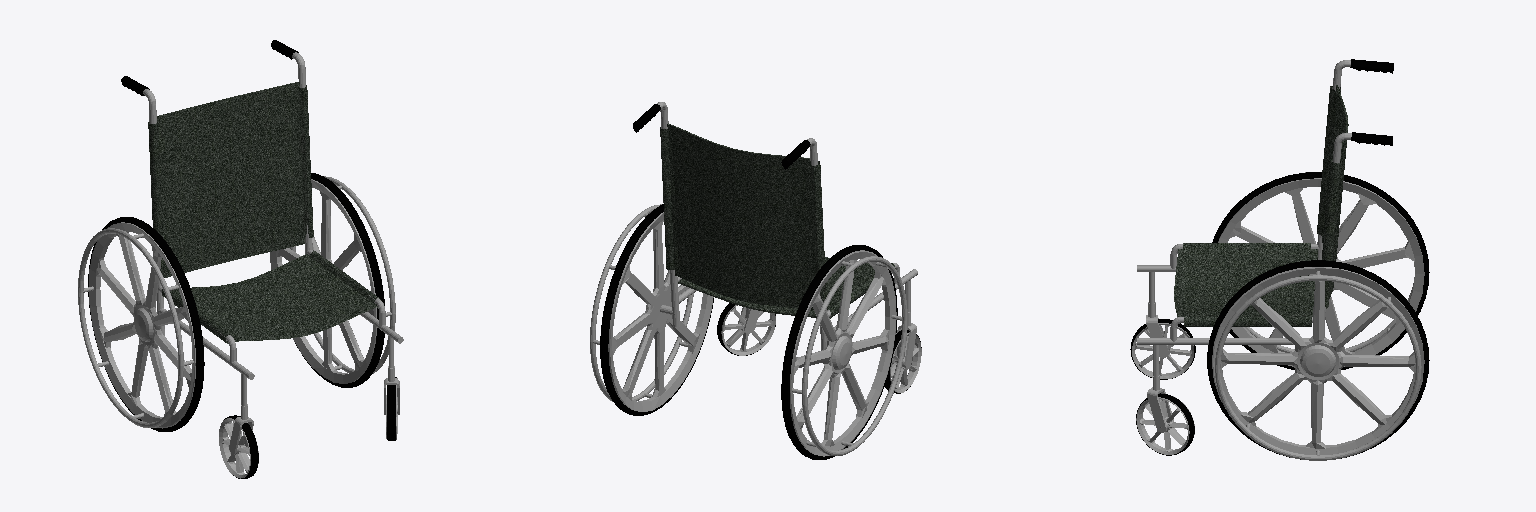
3 renders of one model, left to right at view 1: azimuth 30°, elevation 25°; view 2: azimuth 150°, elevation 25°; view 3: azimuth 270°, elevation 25°, orthographic.
Visible parts, largest first — view 1: 21_21, 22_22, 3_3, 1_1, 4_4, 23_23, 2_2, 18_18, 20_20, 24_24, 19_19, 17_17 (+4 smaller); view 2: 21_21, 3_3, 18_18, 1_1, 4_4, 20_20, 2_2, 24_24, 23_23, 19_19, 17_17, 22_22 (+2 smaller); view 3: 18_18, 22_22, 20_20, 3_3, 17_17, 1_1, 19_19, 2_2, 26_26, 23_23, 36_36, 24_24 (+6 smaller).
Part boxes in pixels (x1,y1,x2,y2): 21_21: (157,82,304,277); 22_22: (172,254,377,341); 3_3: (96,231,191,416); 1_1: (89,222,195,428); 4_4: (78,228,183,427); 23_23: (290,85,313,238); 2_2: (88,217,204,431); 18_18: (276,191,373,370); 20_20: (270,179,376,383); 24_24: (148,119,169,274); 19_19: (295,173,384,387); 17_17: (290,176,395,373); 21_21: (667,123,813,309); 3_3: (794,260,888,446); 18_18: (612,220,699,400); 1_1: (782,250,896,456); 4_4: (802,256,907,455); 20_20: (608,212,713,411); 2_2: (781,245,897,459); 24_24: (802,161,826,301); 23_23: (660,127,680,271); 19_19: (600,204,713,415); 17_17: (590,204,693,401); 22_22: (678,257,874,317); 18_18: (1221,274,1415,448); 22_22: (1174,249,1317,316); 20_20: (1212,267,1424,454); 3_3: (1228,188,1414,354); 17_17: (1215,275,1421,460); 1_1: (1218,178,1424,366); 19_19: (1207,260,1429,459); 2_2: (1212,172,1429,369); 26_26: (1183,243,1310,255); 23_23: (1322,159,1340,308); 36_36: (1137,317,1312,344); 24_24: (1317,86,1340,237).
Bounding box in the file's own units: 0.7072 × 1 × 0.8455.
Materials: 3 (1 with a texture image).